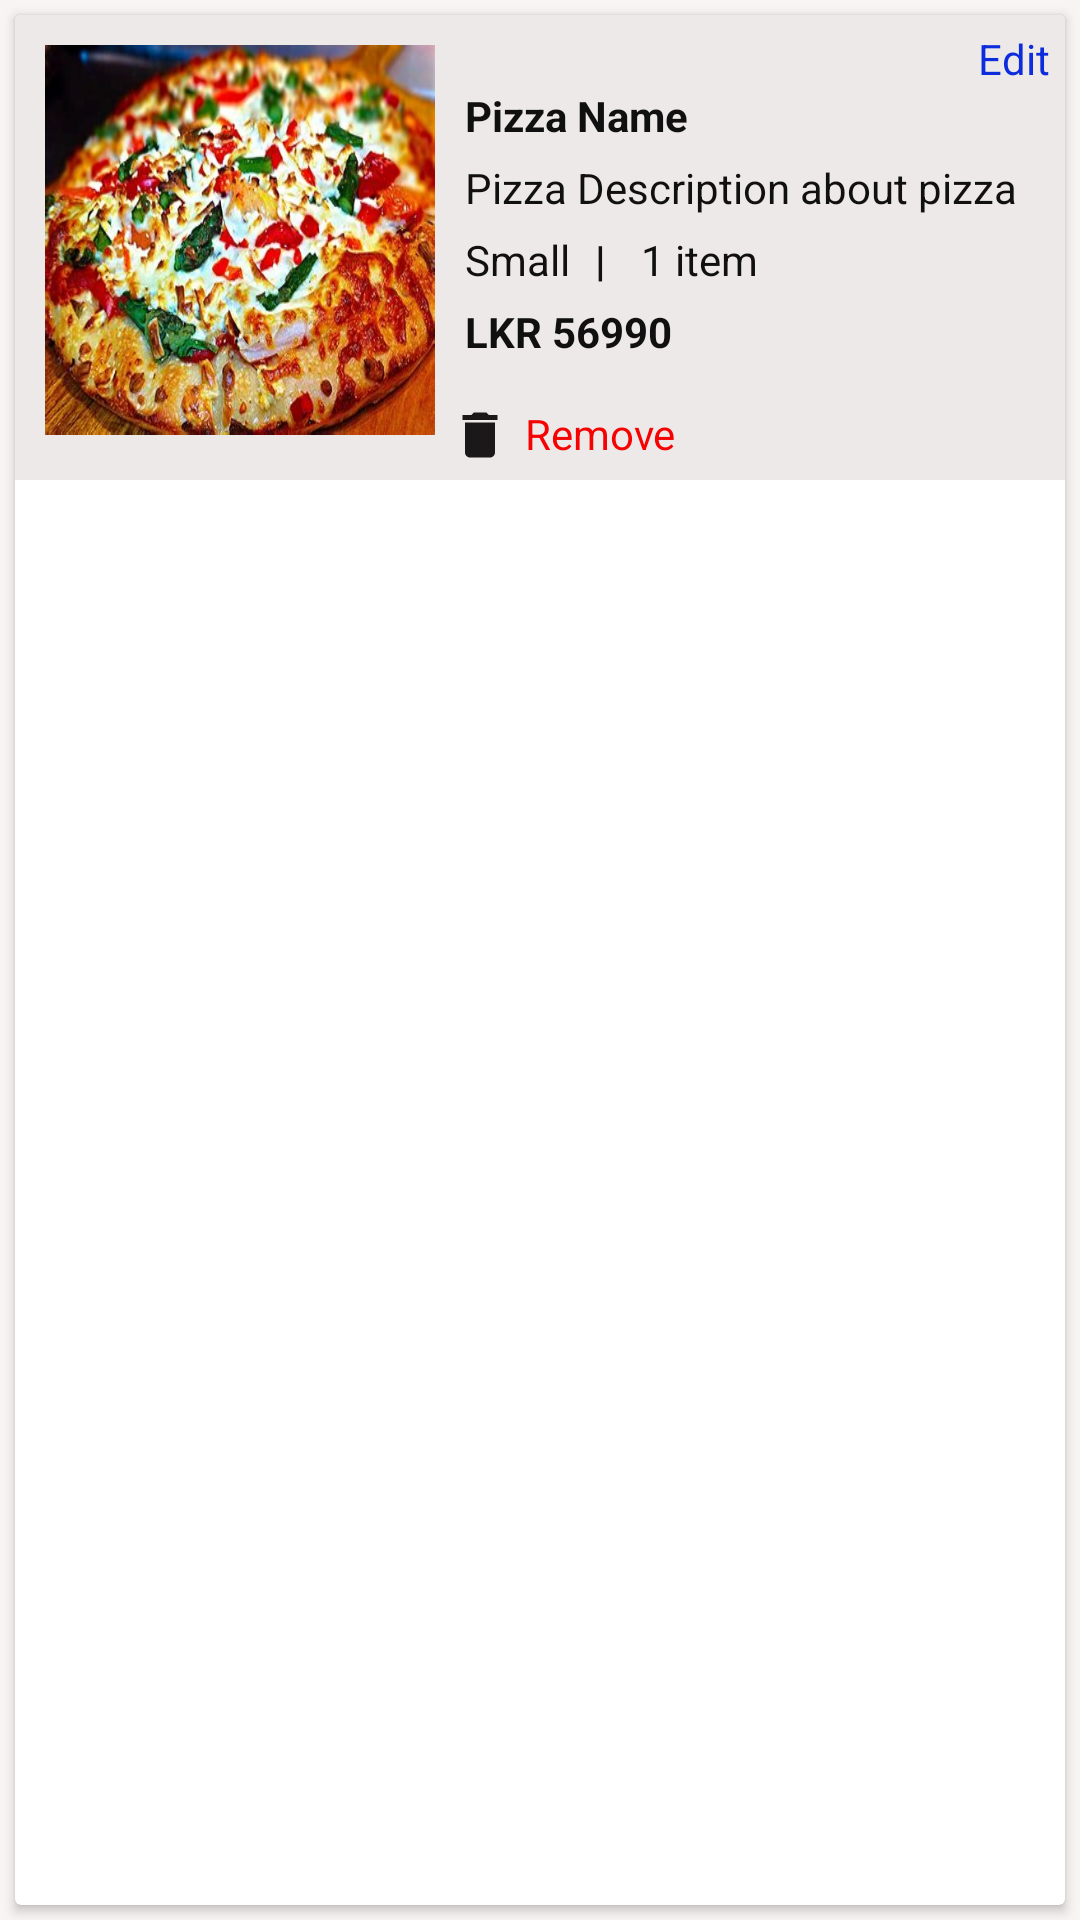

Where icons sit on this 1080 x 1920 app screen, as [x1,y1,x2,y2]:
delete: [462,412,498,458]
